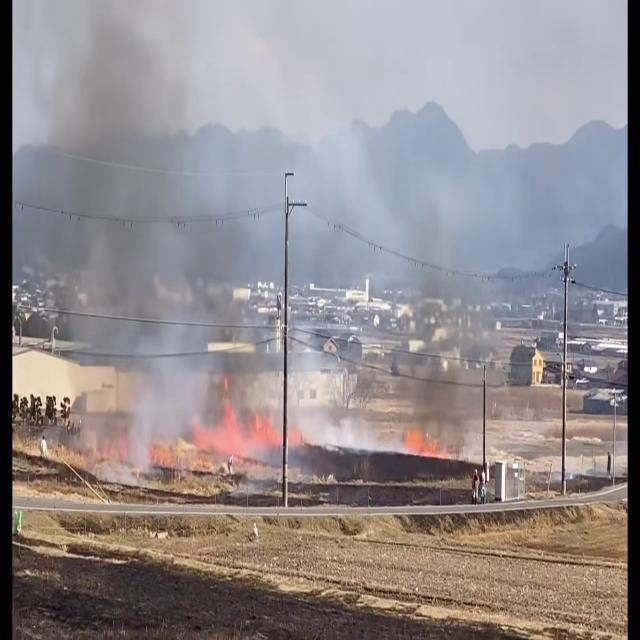Fire: (194, 372, 265, 459), (386, 409, 476, 451)
Smoke: (31, 3, 329, 470), (308, 0, 507, 444)
